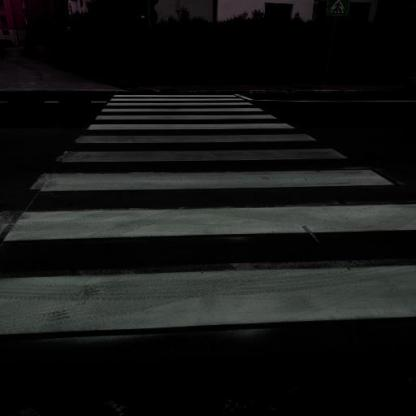crosswalk: (22, 147, 405, 197), (83, 112, 301, 134)
